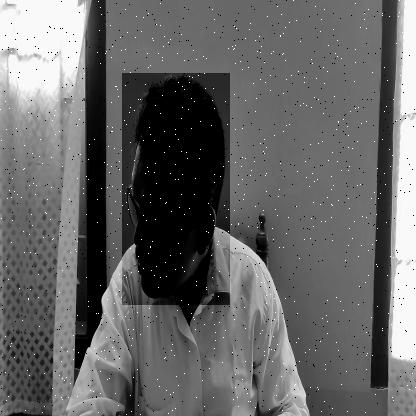Distracted: (122, 74, 230, 306)
